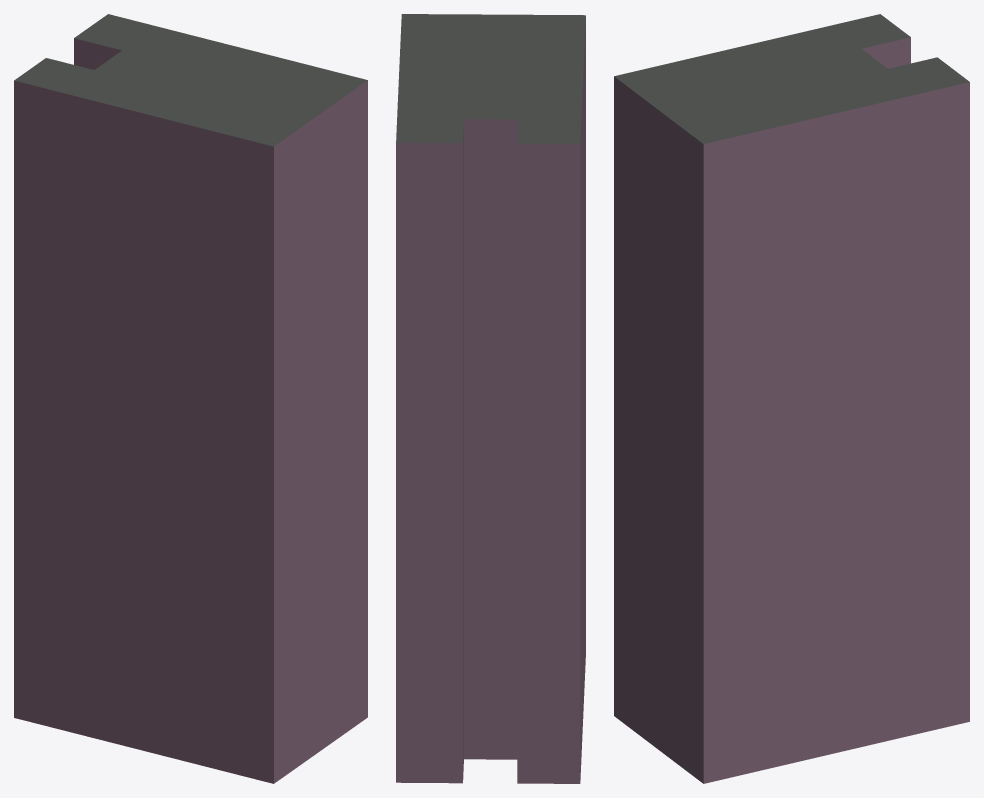
The model's file is nyc-1022628-0.glb.
3 views of the same model, side by side, from view 1: azimuth 30°, elevation 25°; view 2: azimuth 150°, elevation 25°; view 3: azimuth 270°, elevation 25° (orthographic).
Visible parts, largest first — view 1: nyc-1022628-0; view 2: nyc-1022628-0; view 3: nyc-1022628-0.
Boxes of the visible parts, x1,y1,x2,y2 form: nyc-1022628-0: (14,14,367,783); nyc-1022628-0: (396,14,585,783); nyc-1022628-0: (614,14,969,783).
Bounding box in the file's own units: 30.6 × 70.1 × 35.35.
